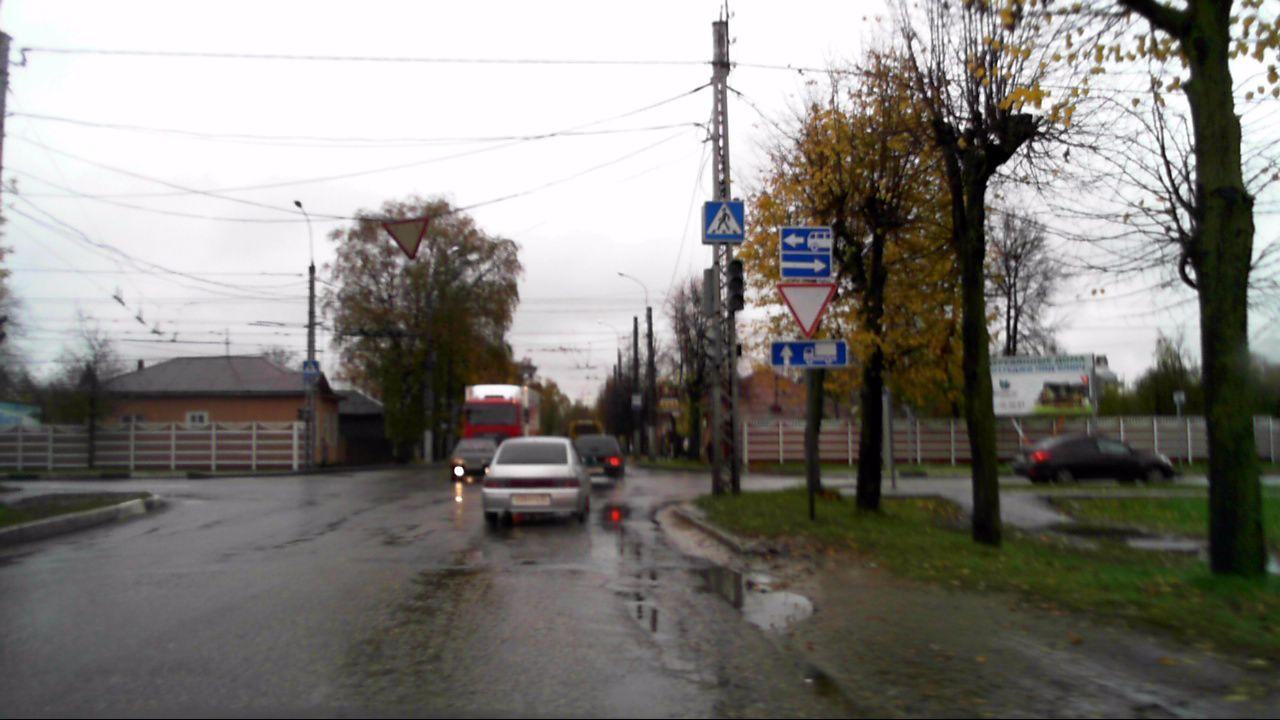2_4: (777, 282, 839, 337), (381, 217, 429, 262)
5_13_1: (780, 227, 833, 276)
5_19_1: (702, 200, 745, 244)
5_19_2: (303, 359, 321, 376)
6_15_1: (771, 341, 848, 367)
